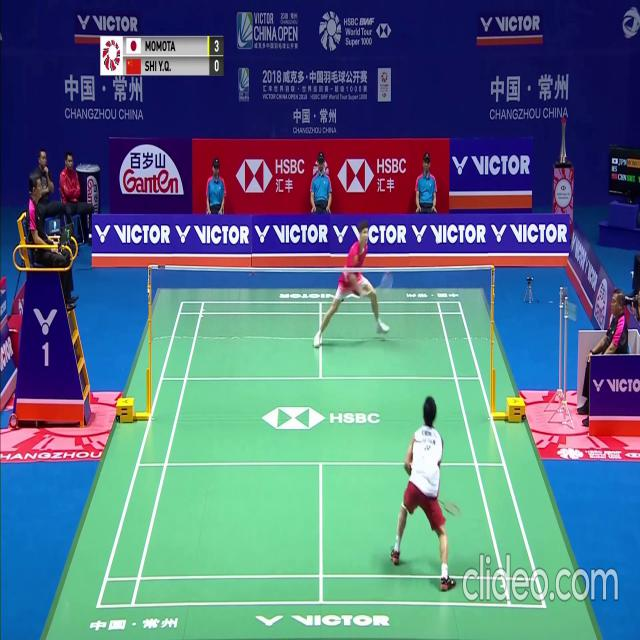Shuttlecock: (435, 236, 440, 244)
